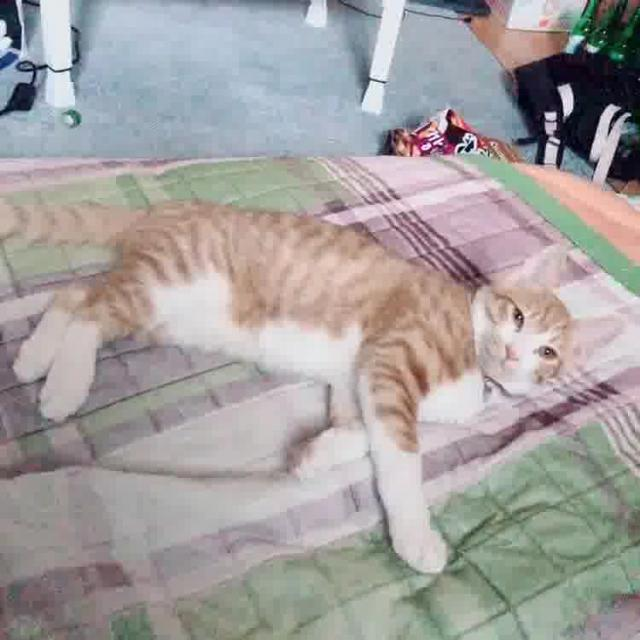cat: (3, 162, 636, 591)
